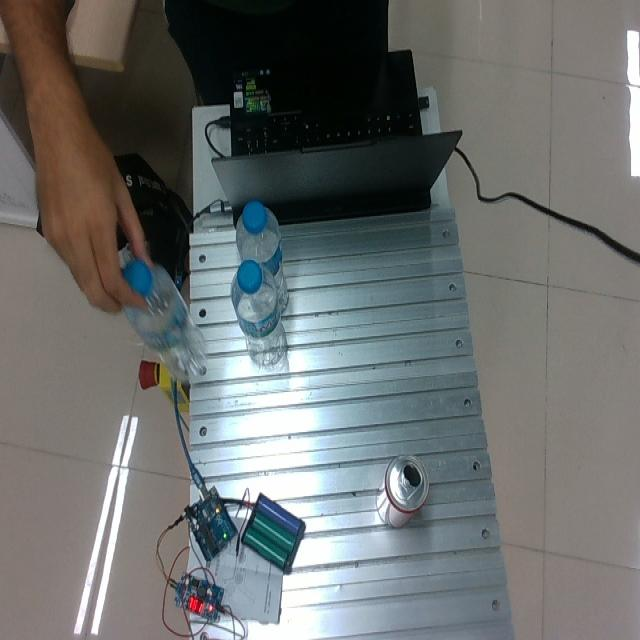coca: (378, 453, 430, 527)
lavie: (123, 258, 210, 382), (235, 200, 287, 315), (233, 263, 287, 369)
